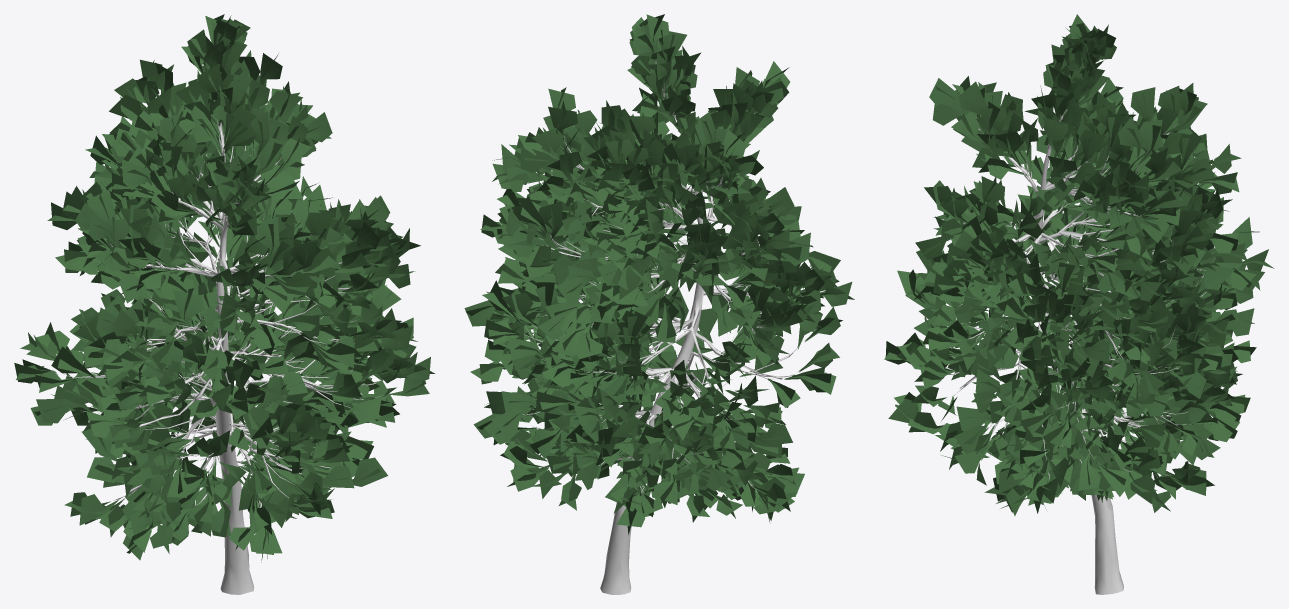
Rendered from Baum4.fbx.
The picture shows the model from 3 angles, left to right: view 1: azimuth 30°, elevation 25°; view 2: azimuth 150°, elevation 25°; view 3: azimuth 270°, elevation 25°; orthographic projection. The views are drawn at different scales.
Visible parts, largest first — view 1: Tree_Pinus-ponderosa_D_spring-summer-autumn.003; view 2: Tree_Pinus-ponderosa_D_spring-summer-autumn.003; view 3: Tree_Pinus-ponderosa_D_spring-summer-autumn.003.
Part boxes in pixels (<box>): Tree_Pinus-ponderosa_D_spring-summer-autumn.003: <box>14,14,434,594</box>; Tree_Pinus-ponderosa_D_spring-summer-autumn.003: <box>464,14,854,594</box>; Tree_Pinus-ponderosa_D_spring-summer-autumn.003: <box>884,14,1274,594</box>.
Bounding box in the file's own units: 472 × 771 × 488.
